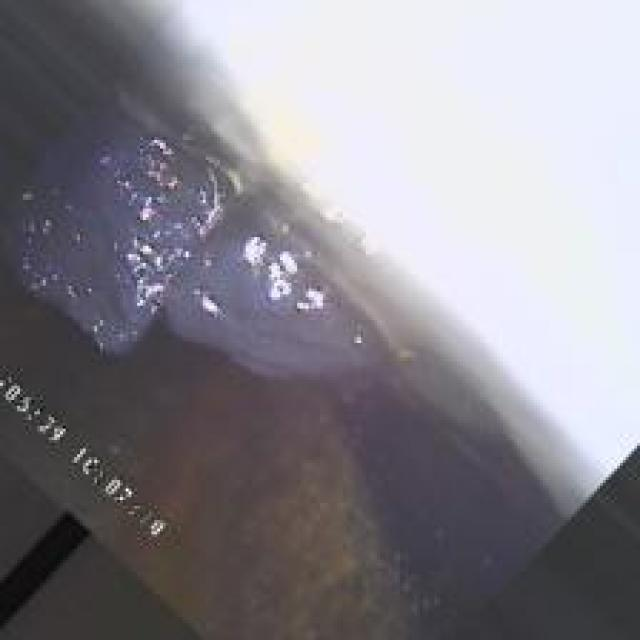stone: (23, 123, 360, 406)
